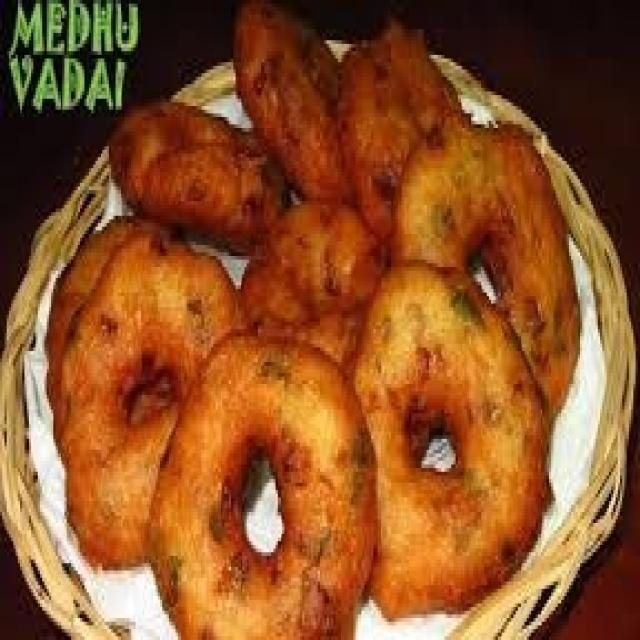medu vadai: (5, 36, 617, 640), (42, 16, 621, 640), (116, 3, 472, 290), (146, 330, 374, 637), (48, 221, 237, 567), (395, 122, 575, 417), (334, 18, 460, 240), (110, 101, 286, 252), (237, 193, 384, 359), (236, 3, 350, 202)
